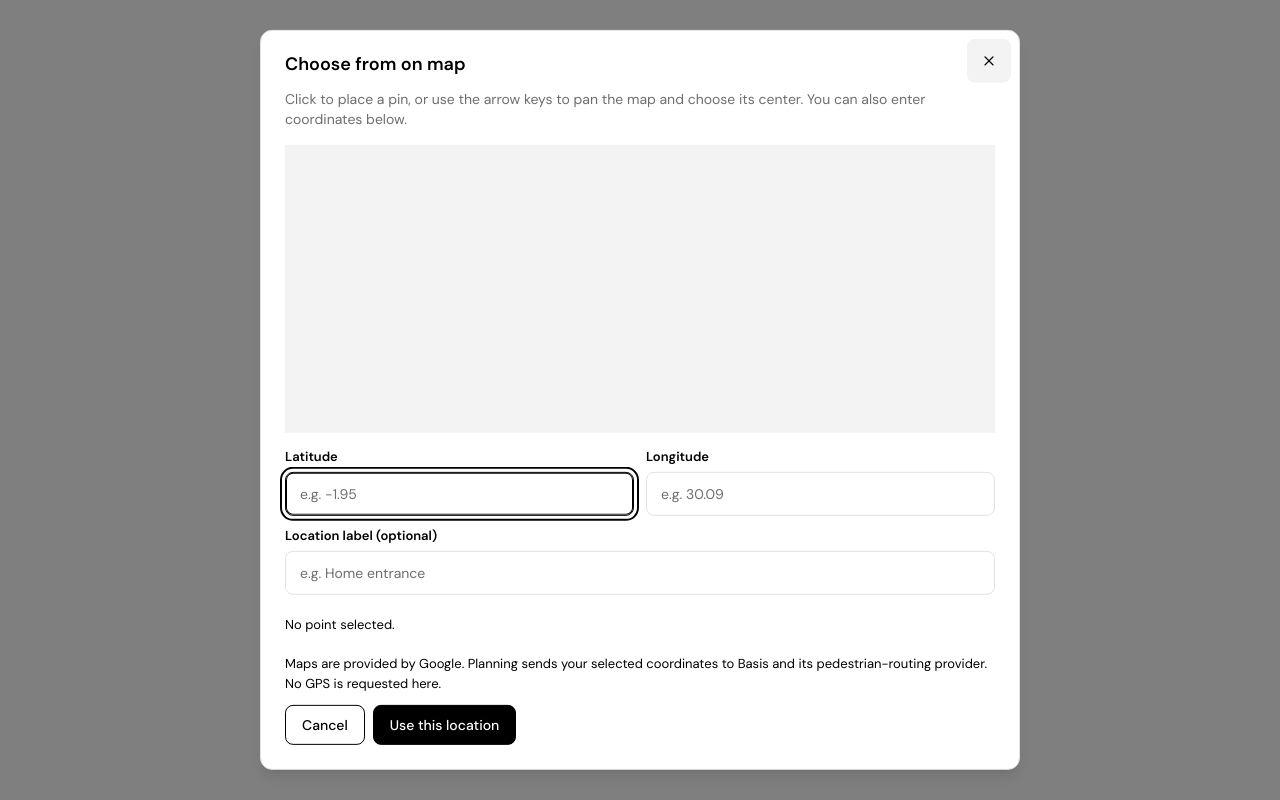
Scenario: Explicit map pin selection › never treats a blank coordinate or the default map center as a selection
Expected: the message shows "No point selected", x1=285 y1=616 x2=395 y2=633
Click the button "Use this location" at (445, 725), box x1=373 y1=705 x2=516 y2=745
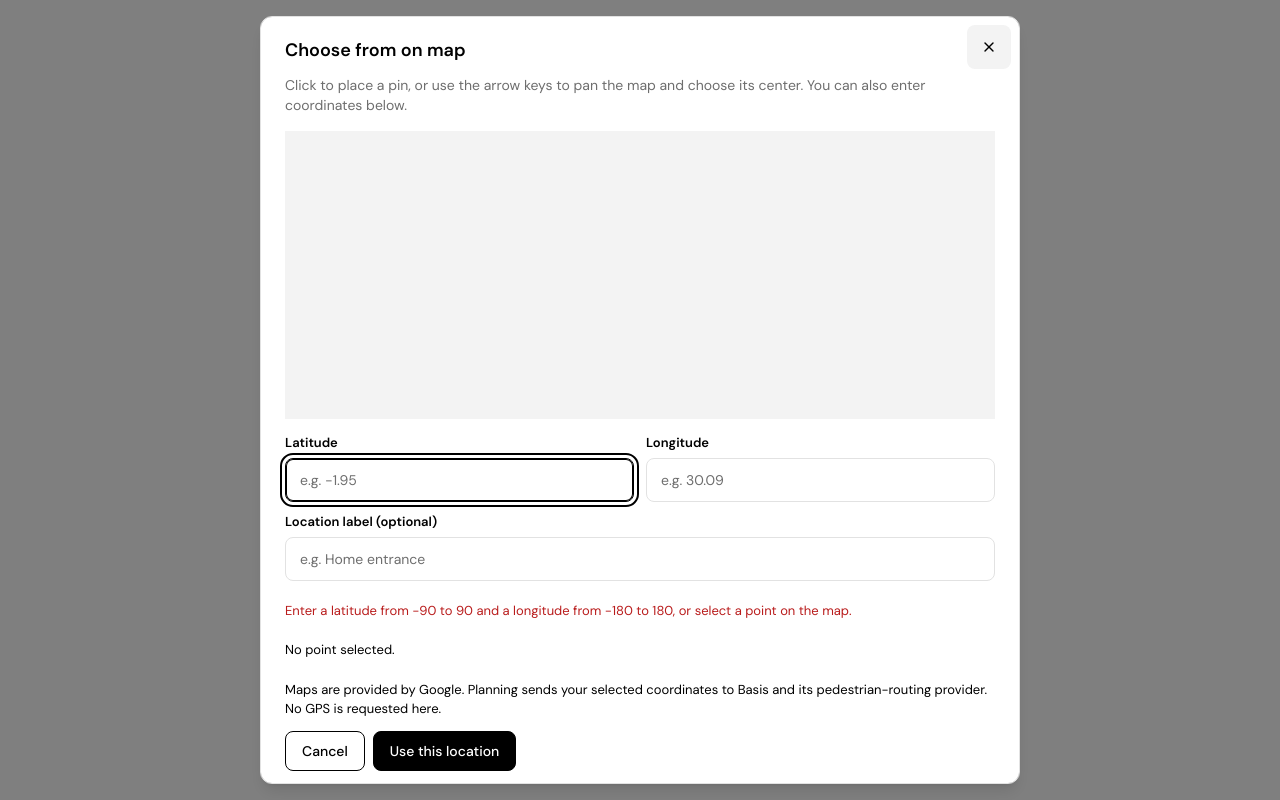
Now the 1st message shows "Enter a latitude", box x1=285 y1=602 x2=852 y2=619
